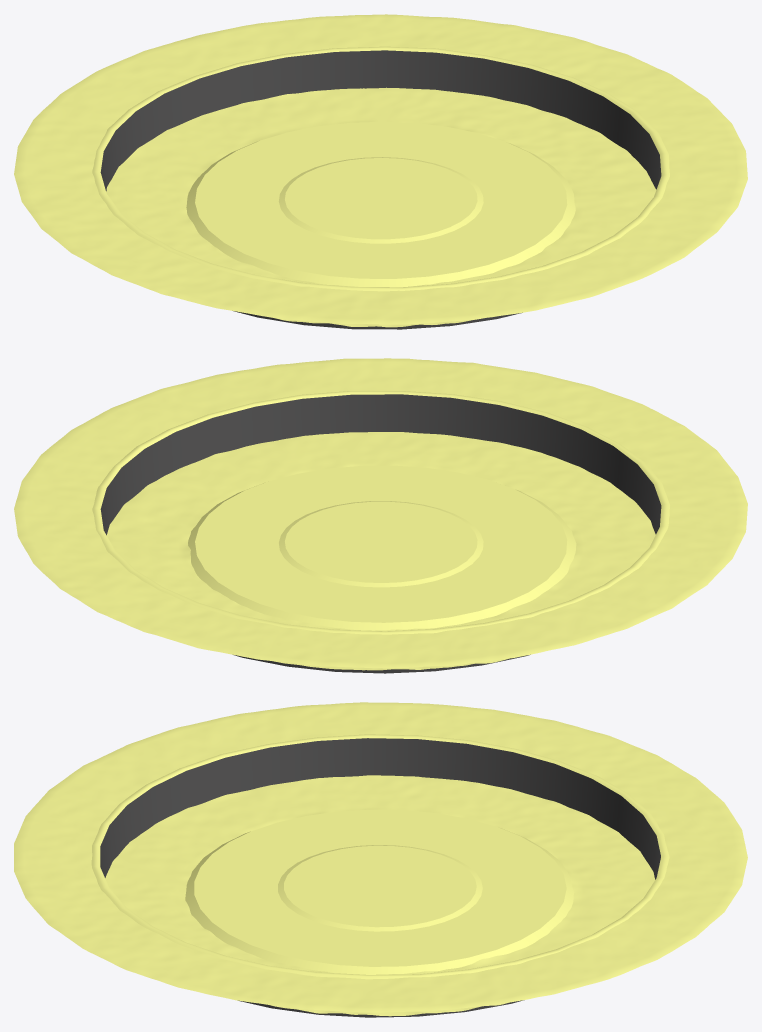
The model's file is prop_terrain_test.FBX.
The picture shows the model from 3 angles, top to bottom: view 1: azimuth 30°, elevation 25°; view 2: azimuth 150°, elevation 25°; view 3: azimuth 270°, elevation 25°; orthographic projection.
Parts seen in each view (by area): view 1: Desert, Buildings, Trees; view 2: Desert, Buildings, Trees; view 3: Desert, Buildings, Trees.
Part boxes in pixels (left/top/right/bottom): Desert: left=14, top=14, right=747, bottom=329; Buildings: left=186, top=121, right=575, bottom=287; Trees: left=106, top=87, right=656, bottom=327; Desert: left=14, top=358, right=747, bottom=673; Buildings: left=188, top=465, right=576, bottom=630; Trees: left=107, top=432, right=655, bottom=670; Desert: left=14, top=702, right=747, bottom=1017; Buildings: left=185, top=809, right=574, bottom=974; Trees: left=105, top=775, right=654, bottom=1016.
Size of the model in its own units: 986 by 67.47 by 985.
